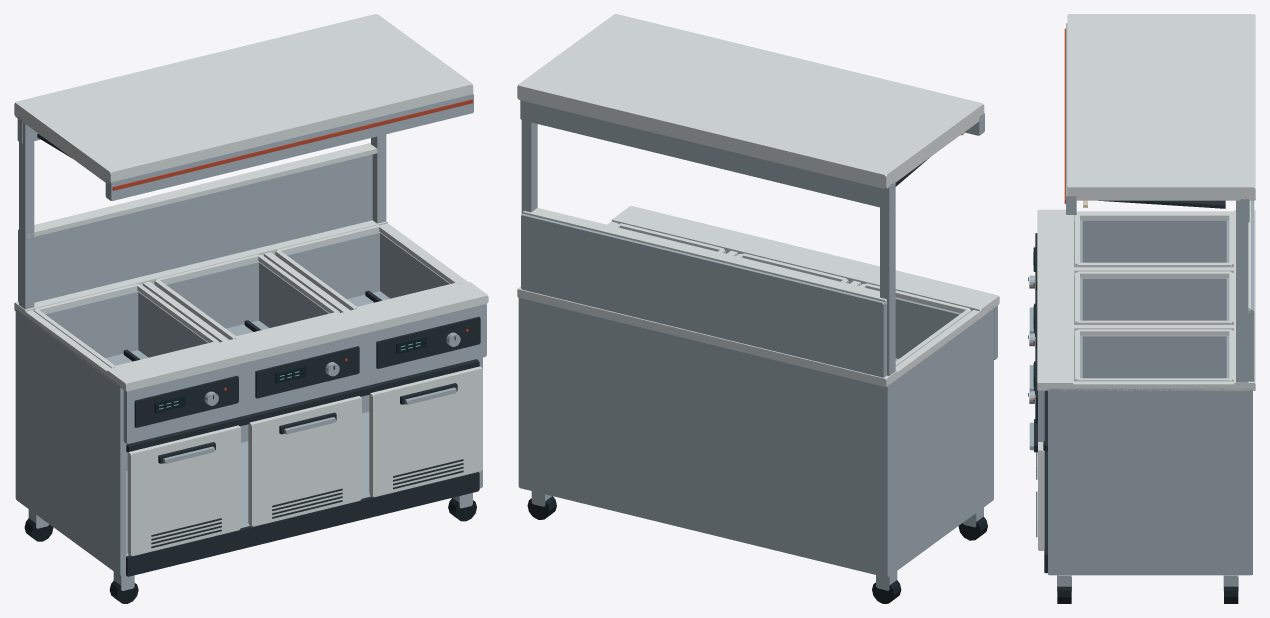
The model's file is Fryer_Triple.glb.
3 views of the same model, side by side, from view 1: azimuth 30°, elevation 25°; view 2: azimuth 150°, elevation 25°; view 3: azimuth 270°, elevation 25° (orthographic). The views are drawn at different scales.
Visible parts, largest first — view 1: Body, Door02, Door03, Door01, Controls; view 2: Body; view 3: Body, Door03, Controls, Vent.
Part boxes in pixels (x1,y1,x2,y2): Body: (14,14,488,603); Door02: (248,396,361,526); Door03: (369,366,482,497); Door01: (127,425,240,556); Controls: (134,316,480,427); Body: (517,14,999,603); Body: (1037,14,1255,603); Door03: (1029,419,1044,550); Controls: (1028,233,1037,423); Vent: (1098,200,1225,208).
Size of the model in its own units: 1.5 by 1.7 by 0.8325.
